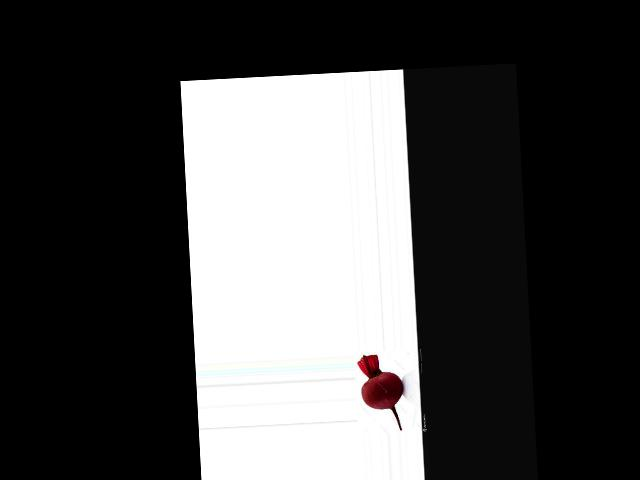beet: (357, 352, 405, 432)
